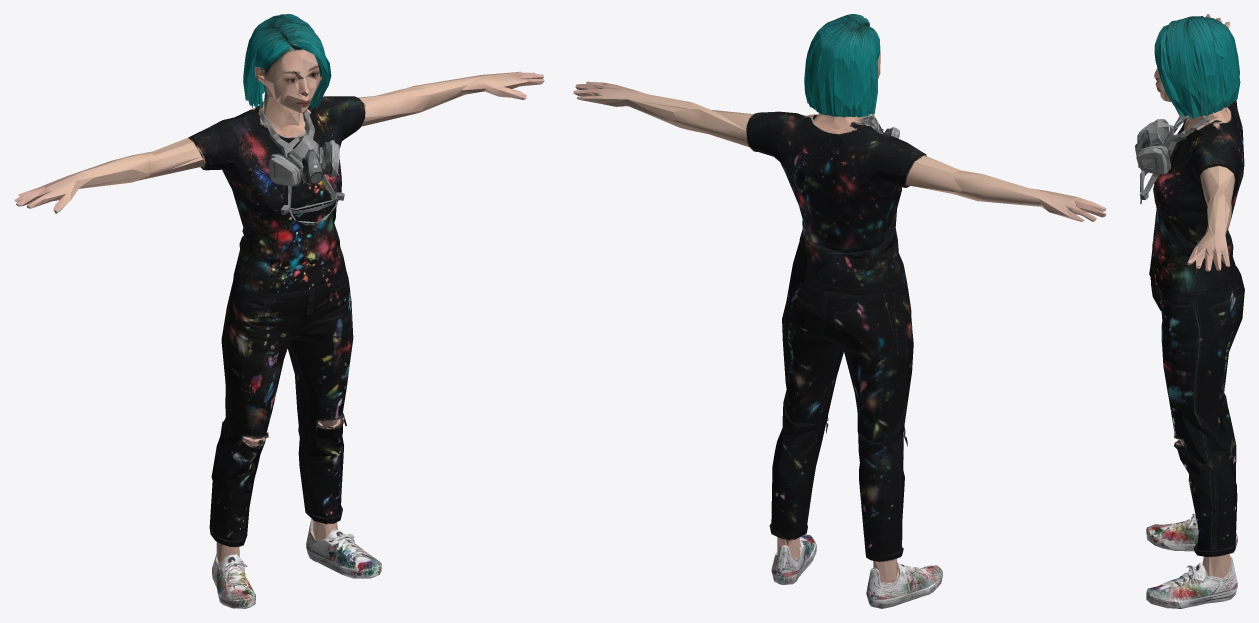
The model's file is image3d.glb.
3 renders of one model, left to right at view 1: azimuth 30°, elevation 25°; view 2: azimuth 150°, elevation 25°; view 3: azimuth 270°, elevation 25°, orthographic.
Bounding box in the file's own units: 1.87 × 1.9 × 0.3406.
1 material, 1 textured.
